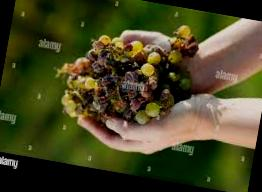Grape Rotten: (48, 4, 204, 139)
